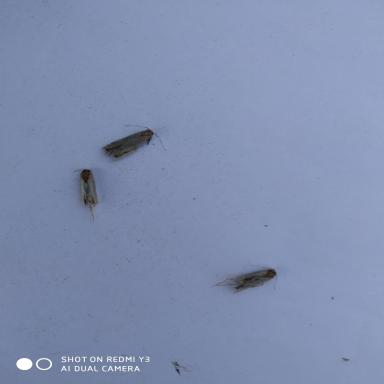pbw: (102, 125, 167, 162), (210, 260, 278, 294), (74, 168, 99, 222)
